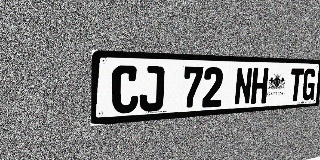2: (202, 67, 223, 108)
7: (181, 66, 204, 109)
C: (111, 65, 139, 114)
G: (301, 69, 316, 101)
H: (251, 68, 269, 104)
J: (139, 66, 165, 112)
N: (234, 67, 253, 105)
T: (288, 68, 304, 102)
